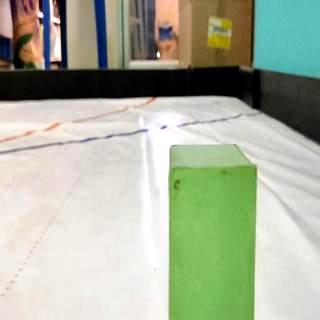greenbox: (166, 141, 258, 320)
